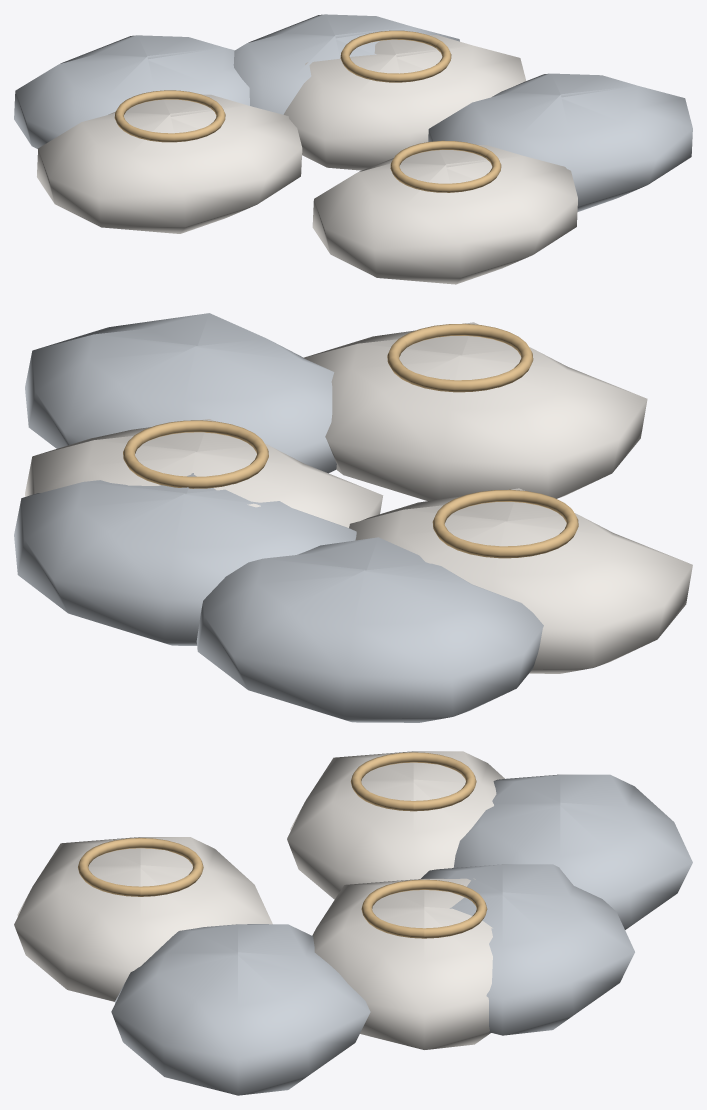
File: scat_lichen_slates.glb
3 views of the same model, one above another, from view 1: azimuth 30°, elevation 25°; view 2: azimuth 150°, elevation 25°; view 3: azimuth 270°, elevation 25° (orthographic). The views are drawn at different scales.
Visible parts, largest first — view 1: SCAT_lichen_slates_slate_2, SCAT_lichen_slates_slate_4, SCAT_lichen_slates_slate_5, SCAT_lichen_slates_slate_0, SCAT_lichen_slates_slate_1, SCAT_lichen_slates_slate_3, SCAT_lichen_slates_gold_trace_0, SCAT_lichen_slates_gold_trace_4, SCAT_lichen_slates_gold_trace_2; view 2: SCAT_lichen_slates_slate_1, SCAT_lichen_slates_slate_2, SCAT_lichen_slates_slate_3, SCAT_lichen_slates_slate_5, SCAT_lichen_slates_slate_4, SCAT_lichen_slates_slate_0, SCAT_lichen_slates_gold_trace_0, SCAT_lichen_slates_gold_trace_4, SCAT_lichen_slates_gold_trace_2; view 3: SCAT_lichen_slates_slate_5, SCAT_lichen_slates_slate_2, SCAT_lichen_slates_slate_1, SCAT_lichen_slates_slate_0, SCAT_lichen_slates_slate_3, SCAT_lichen_slates_slate_4, SCAT_lichen_slates_gold_trace_2, SCAT_lichen_slates_gold_trace_4, SCAT_lichen_slates_gold_trace_0.
Part boxes in pixels (x1,y1,x2,y2): SCAT_lichen_slates_slate_2: (312,145,577,284); SCAT_lichen_slates_slate_4: (37,94,302,233); SCAT_lichen_slates_slate_5: (428,73,692,211); SCAT_lichen_slates_slate_0: (283,34,526,170); SCAT_lichen_slates_slate_1: (14,35,249,148); SCAT_lichen_slates_slate_3: (233,14,459,114); SCAT_lichen_slates_gold_trace_0: (340,30,451,82); SCAT_lichen_slates_gold_trace_4: (114,90,225,142); SCAT_lichen_slates_gold_trace_2: (390,140,501,192); SCAT_lichen_slates_slate_1: (196,537,543,722); SCAT_lichen_slates_slate_2: (303,322,647,500); SCAT_lichen_slates_slate_3: (14,473,356,645); SCAT_lichen_slates_slate_5: (25,313,336,473); SCAT_lichen_slates_slate_4: (349,488,692,673); SCAT_lichen_slates_slate_0: (25,419,383,527); SCAT_lichen_slates_gold_trace_0: (123,420,268,488); SCAT_lichen_slates_gold_trace_4: (432,489,578,558); SCAT_lichen_slates_gold_trace_2: (387,323,533,392); SCAT_lichen_slates_slate_5: (111,924,370,1095); SCAT_lichen_slates_slate_2: (14,837,272,1001); SCAT_lichen_slates_slate_1: (453,774,692,929); SCAT_lichen_slates_slate_0: (312,878,492,1049); SCAT_lichen_slates_slate_3: (421,864,634,1035); SCAT_lichen_slates_slate_4: (287,751,504,899); SCAT_lichen_slates_gold_trace_2: (78,838,203,896); SCAT_lichen_slates_gold_trace_4: (350,752,476,811); SCAT_lichen_slates_gold_trace_0: (361,879,487,938).
Size of the model in its own units: 1.66 by 0.2843 by 1.53.
